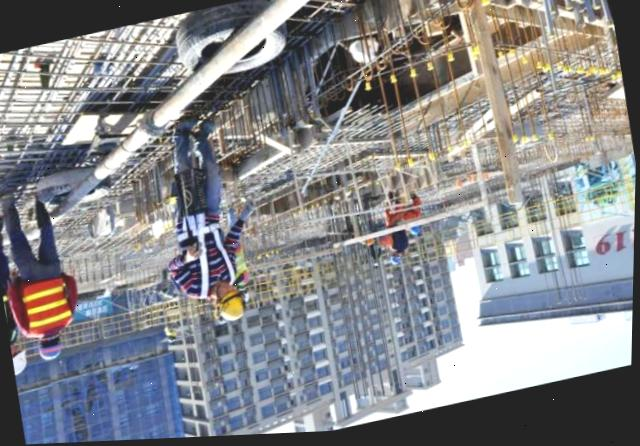helmet: (210, 286, 244, 324), (39, 342, 65, 363), (12, 350, 31, 374), (390, 258, 401, 270), (411, 229, 418, 239)
vest: (170, 218, 241, 303), (18, 273, 80, 343), (1, 291, 19, 343), (231, 251, 248, 278)
